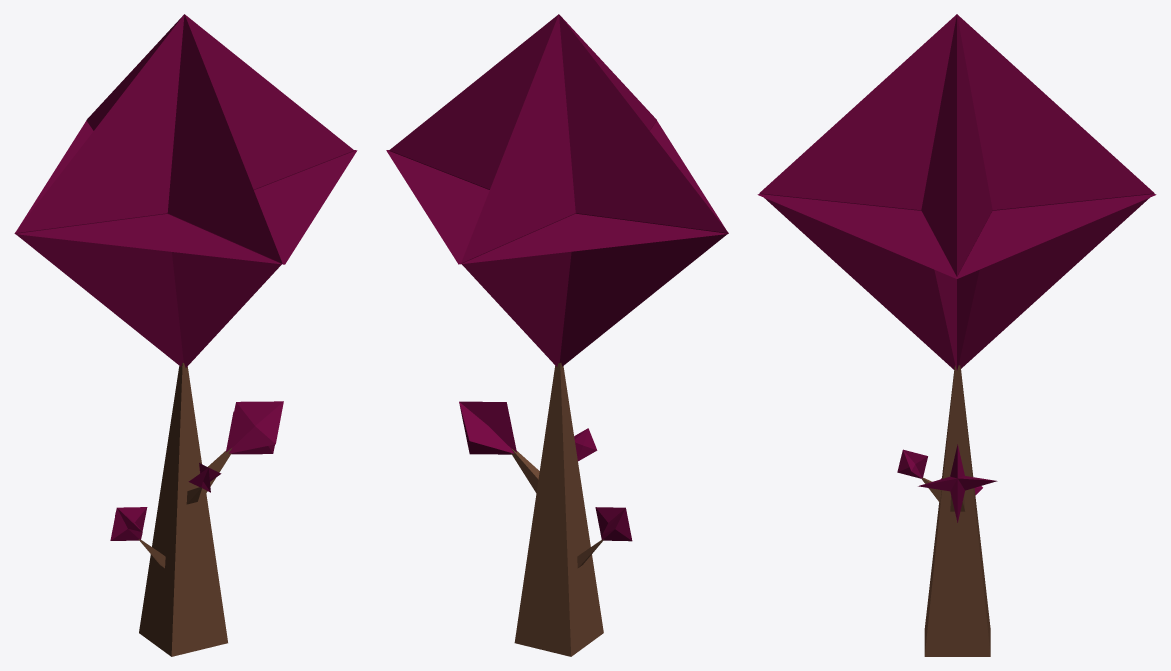
Rendered from Tree02.fbx.
The picture shows the model from 3 angles, left to right: view 1: azimuth 30°, elevation 25°; view 2: azimuth 150°, elevation 25°; view 3: azimuth 270°, elevation 25°; orthographic projection.
Parts seen in each view (by area): view 1: lp_tree02_leaves, lp_tree02_trunk; view 2: lp_tree02_leaves, lp_tree02_trunk; view 3: lp_tree02_leaves, lp_tree02_trunk.
Boxes of the visible parts, x1,y1,x2,y2 form: lp_tree02_leaves: (14,14,357,540); lp_tree02_trunk: (138,363,231,656); lp_tree02_leaves: (386,14,728,541); lp_tree02_trunk: (511,363,603,656); lp_tree02_leaves: (757,14,1156,522); lp_tree02_trunk: (921,365,990,656).
Size of the model in its own units: 303 by 526 by 303.
